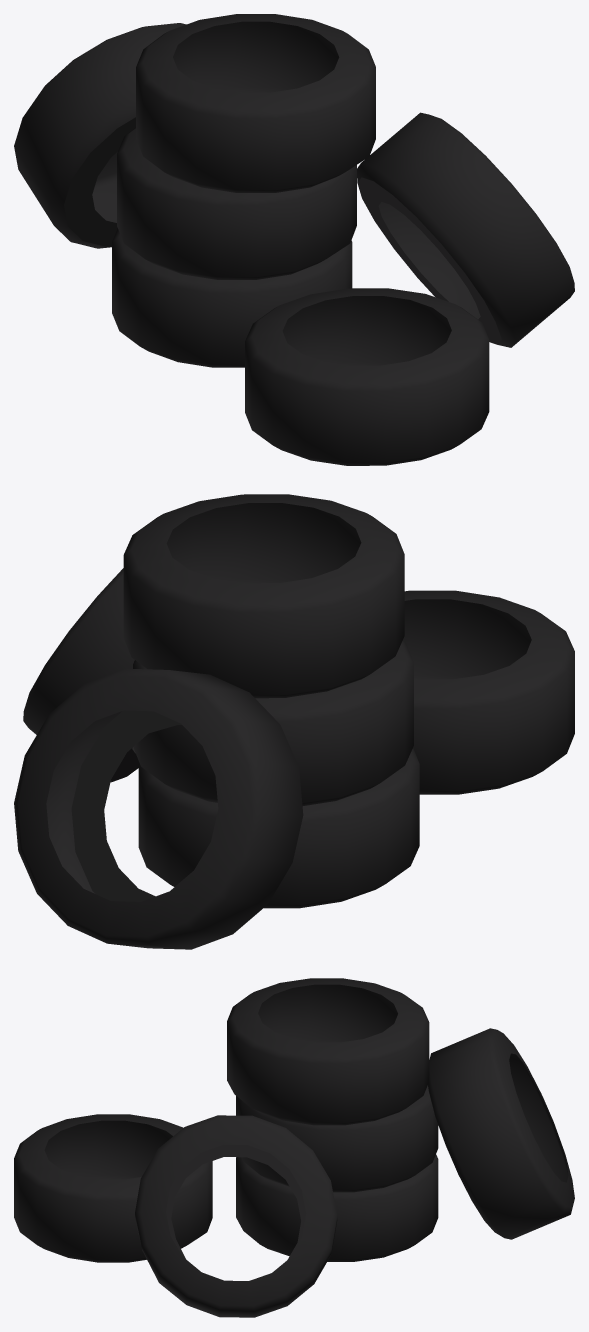
The model's file is SM_TireSet_02.gltf.
3 views of the same model, one above another, from view 1: azimuth 30°, elevation 25°; view 2: azimuth 150°, elevation 25°; view 3: azimuth 270°, elevation 25° (orthographic). The views are drawn at different scales.
Visible parts, largest first — view 1: SM_TireSet_02; view 2: SM_TireSet_02; view 3: SM_TireSet_02.
Part boxes in pixels (x1,y1,x2,y2): SM_TireSet_02: (14,14,574,465); SM_TireSet_02: (14,494,574,949); SM_TireSet_02: (14,978,574,1317).
Bounding box in the file's own units: 1.3 × 0.9711 × 2.12.
1 material, 1 textured.
